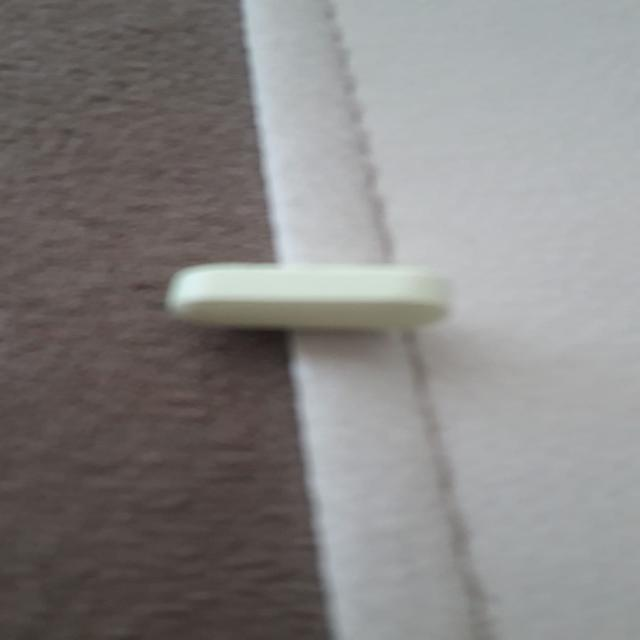pills: (140, 240, 480, 343)
